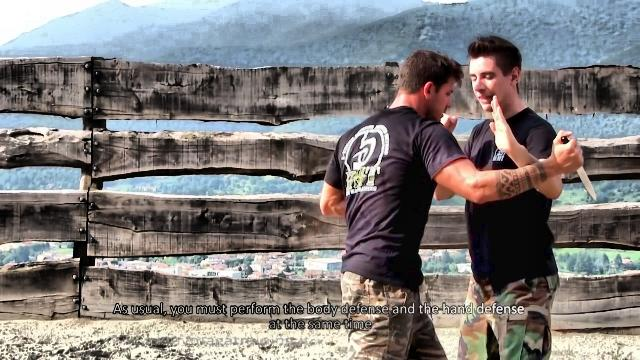knife: (551, 127, 597, 202)
